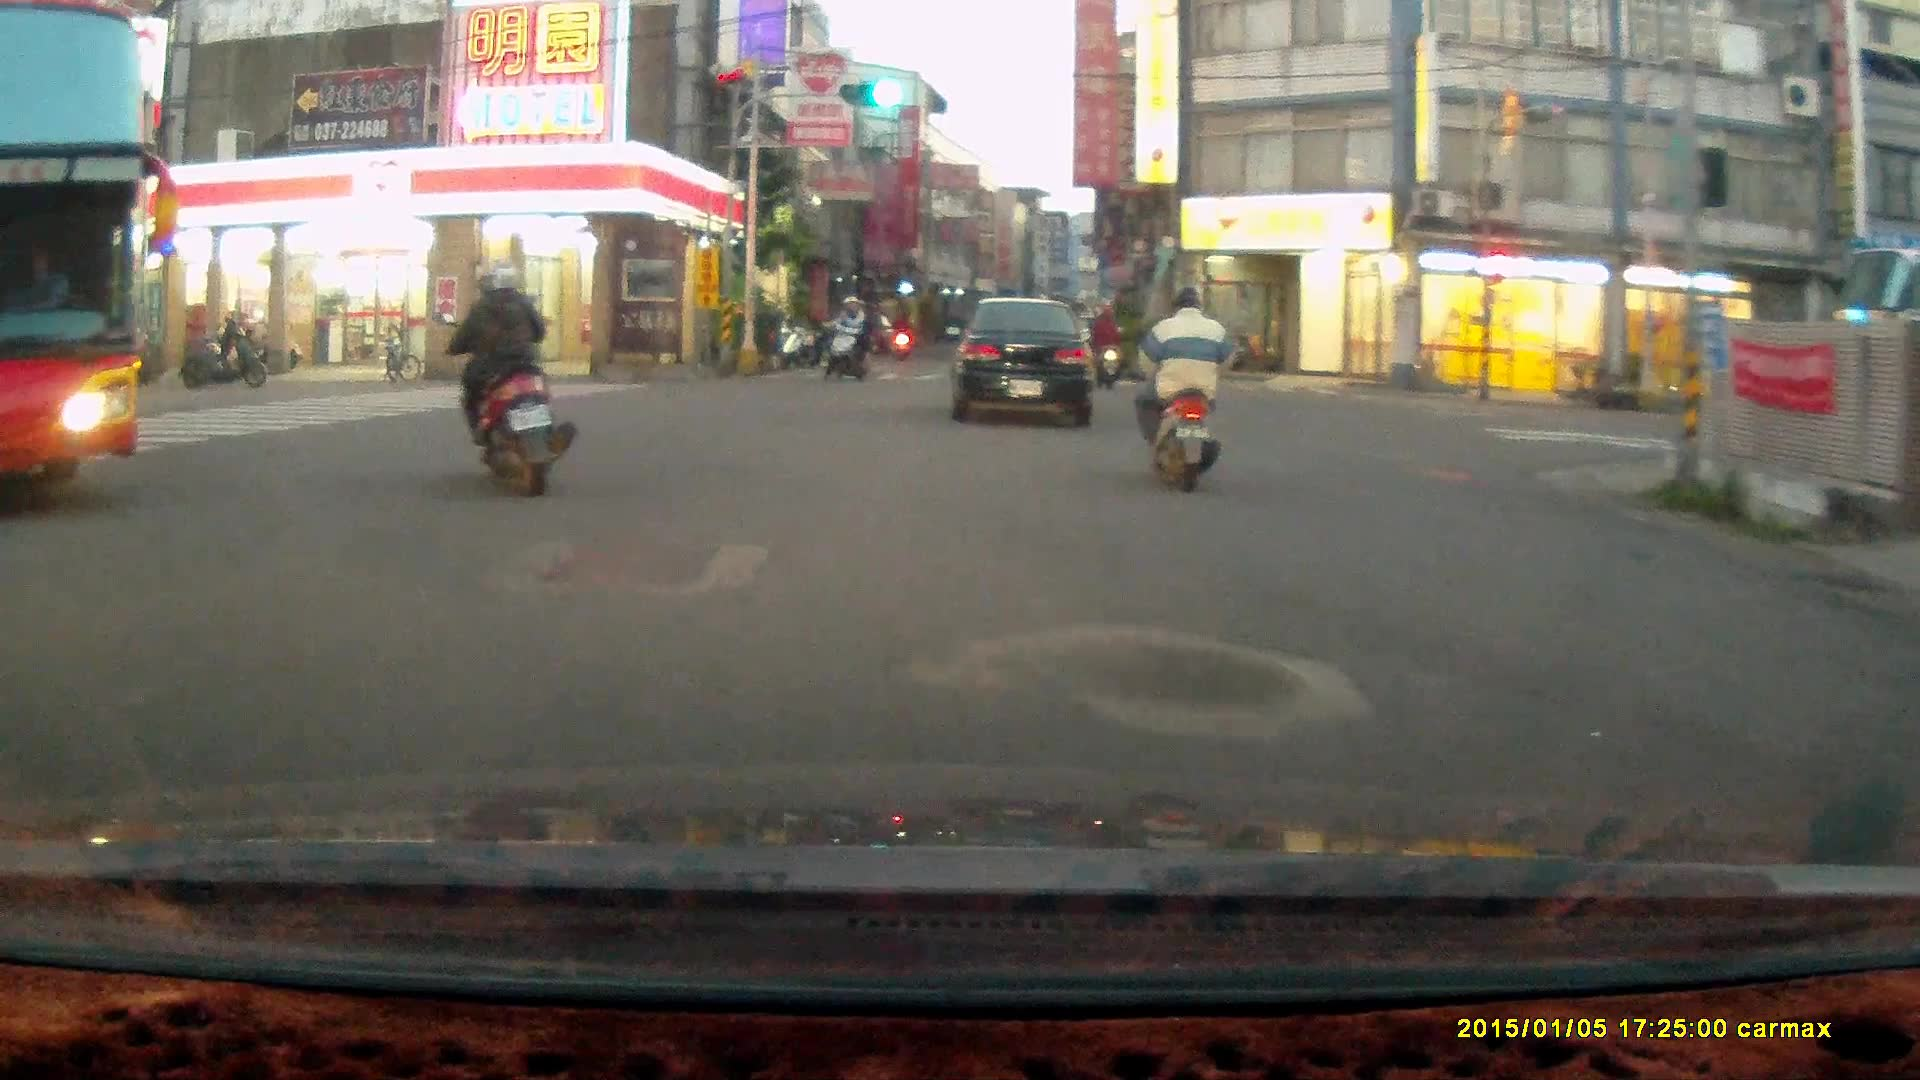rider: (432, 255, 573, 494), (1133, 287, 1224, 496), (822, 292, 877, 384), (1087, 301, 1125, 390)
vehicle: (1, 1, 146, 518), (951, 297, 1097, 430)
